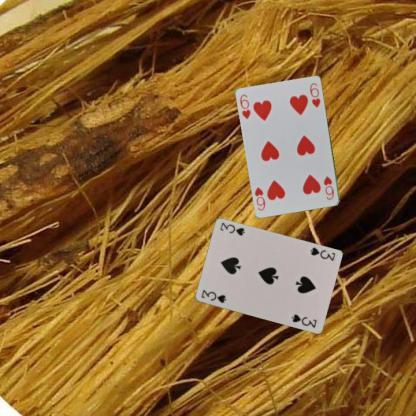3s: (198, 287, 228, 305), (308, 244, 336, 262)
6h: (237, 92, 252, 120), (321, 173, 335, 201)
